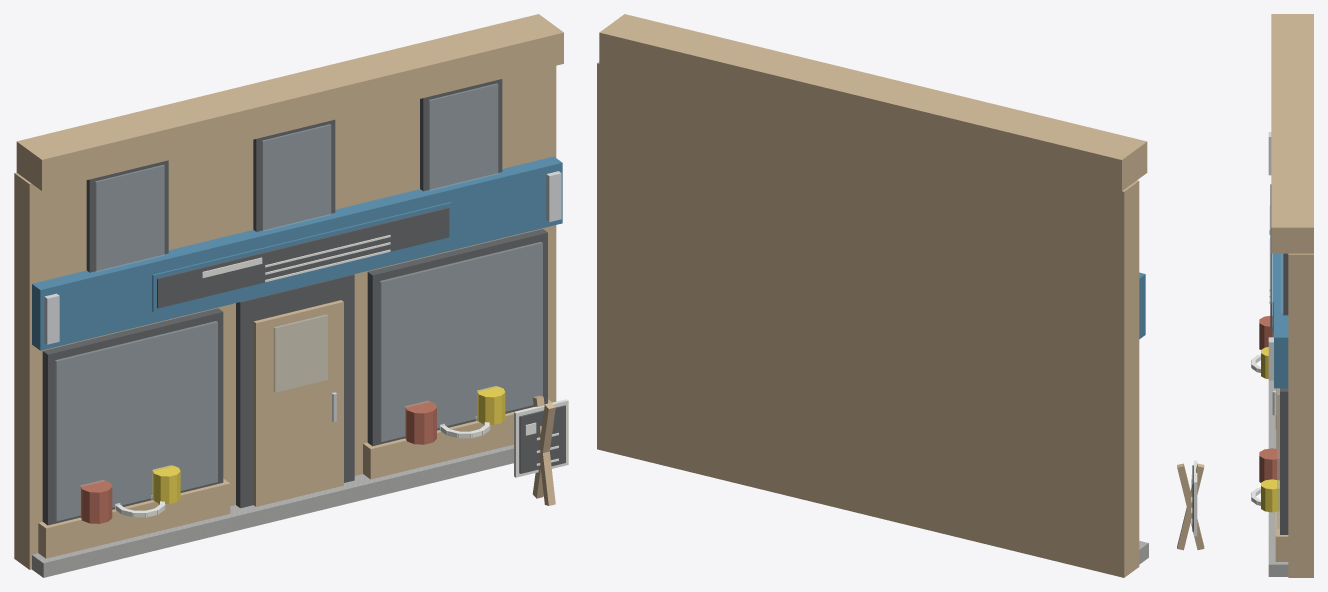
The model's file is fish-market-and-trawler-quay-fish-market-and-trawler-q-d73aa975__37292.glb.
3 views of the same model, side by side, from view 1: azimuth 30°, elevation 25°; view 2: azimuth 150°, elevation 25°; view 3: azimuth 270°, elevation 25° (orthographic). The views are drawn at different scales.
Parts seen in each view (by area): view 1: fish-market-and-trawler-quay-chandlery-front; view 2: fish-market-and-trawler-quay-chandlery-front; view 3: fish-market-and-trawler-quay-chandlery-front.
Part boxes in pixels (x1=…): fish-market-and-trawler-quay-chandlery-front: x1=14, y1=14, x2=568, y2=577; fish-market-and-trawler-quay-chandlery-front: x1=597, y1=14, x2=1148, y2=577; fish-market-and-trawler-quay-chandlery-front: x1=1177, y1=14, x2=1313, y2=577.
Size of the model in its own units: 6 by 4.54 by 1.61.
Materials: 9 (1 with a texture image).
